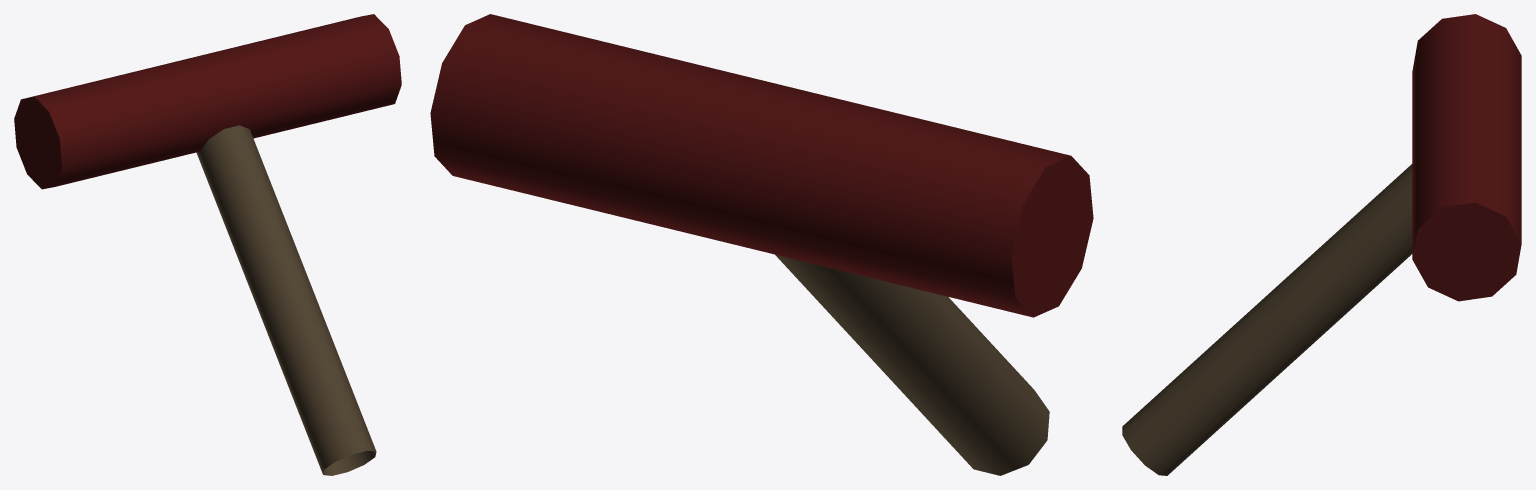
Rendered from stage5 button2.fbx.
The picture shows the model from 3 angles, left to right: view 1: azimuth 30°, elevation 25°; view 2: azimuth 150°, elevation 25°; view 3: azimuth 270°, elevation 25°; orthographic projection. The views are drawn at different scales.
Visible parts, largest first — view 1: Object054; view 2: Object054; view 3: Object054.
Part boxes in pixels (x1,y1,x2,y2): Object054: (14,14,401,475); Object054: (430,14,1093,475); Object054: (1122,14,1521,475).
Bounding box in the file's own units: 6.21 × 5.56 × 5.58.
